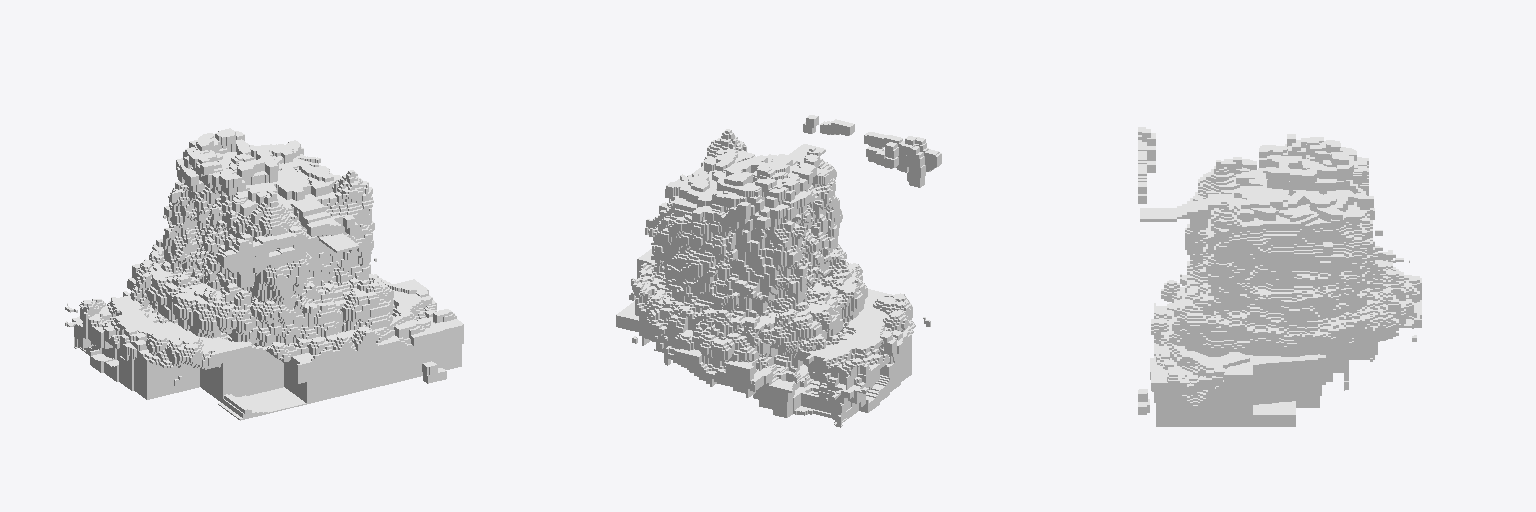
File: Lava_stuff-3.obj
The picture shows the model from 3 angles: view 1: azimuth 30°, elevation 25°; view 2: azimuth 150°, elevation 25°; view 3: azimuth 270°, elevation 25°; orthographic projection.
Parts seen in each view (by area): view 1: object 1; view 2: object 1; view 3: object 1.
Boxes of the visible parts, box(x1,y1,x2,y2) form: object 1: box(65, 128, 463, 420); object 1: box(616, 115, 941, 427); object 1: box(1138, 127, 1421, 426).
Size of the model in its own units: 25.6 by 17 by 21.8.